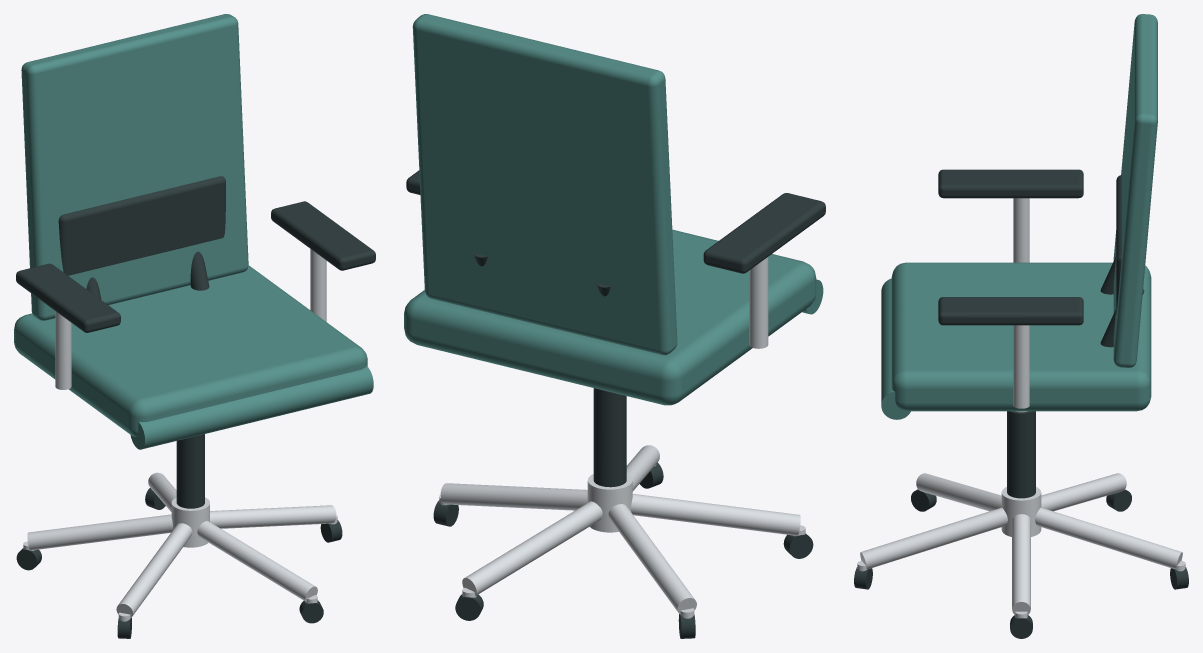
The model's file is office-chair.glb.
3 renders of one model, left to right at view 1: azimuth 30°, elevation 25°; view 2: azimuth 150°, elevation 25°; view 3: azimuth 270°, elevation 25°, orthographic. The views are drawn at different scales.
Parts seen in each view (by area): view 1: office-chair; view 2: office-chair; view 3: office-chair.
Boxes of the visible parts, <box> form: office-chair: <box>14,14,375,638</box>; office-chair: <box>404,14,825,638</box>; office-chair: <box>854,14,1188,638</box>.
Size of the model in its own units: 0.665 by 1.07 by 0.6451.
